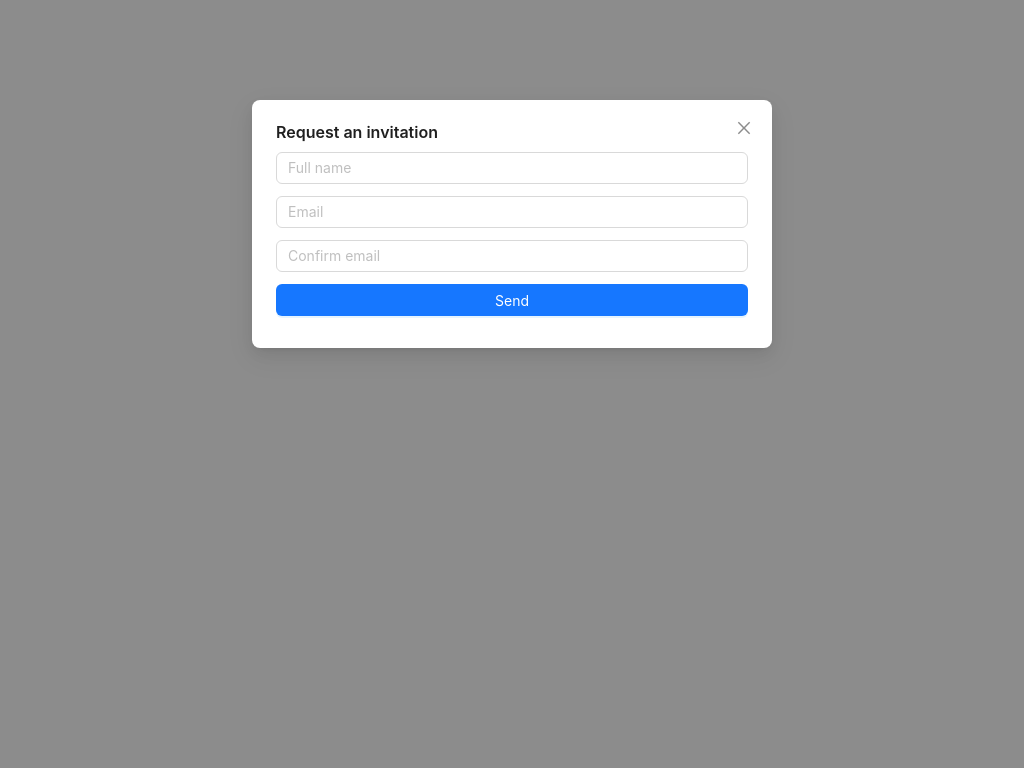
Test: ModalForm › validation › validate name and email
The width and height of the screenshot is (1024, 768).
Click the button "Send": (512, 300) [276, 284, 748, 316]
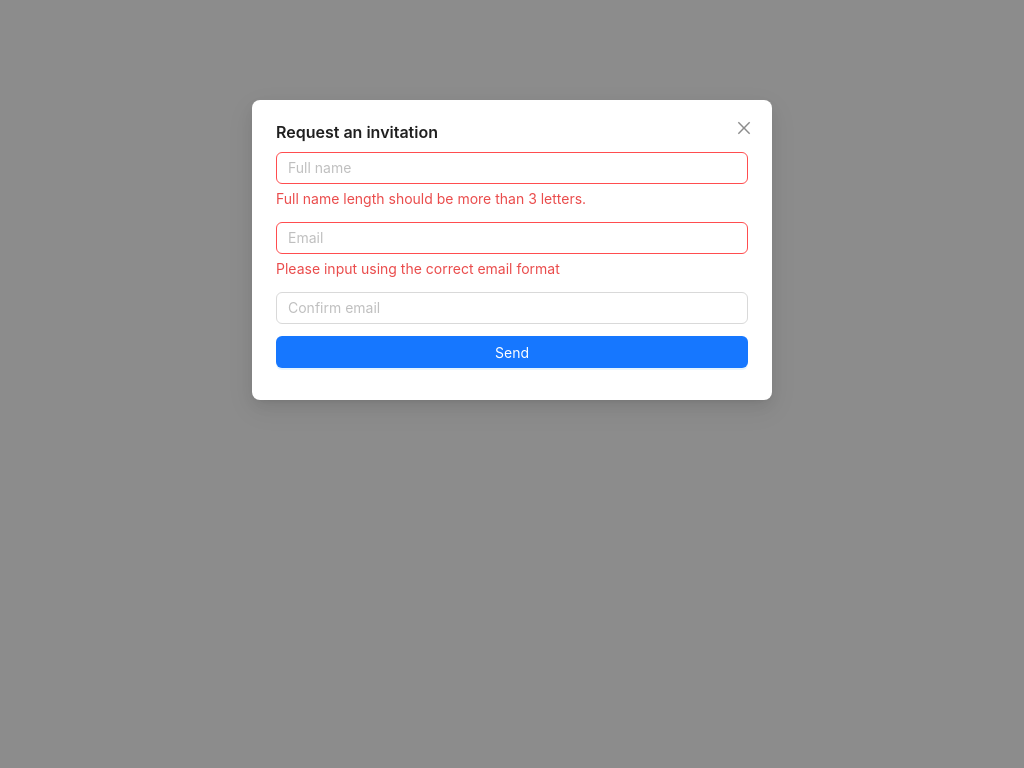
Now the text "Full name length should be more than 3 letters." is shown, box [276, 190, 586, 207]
Now the text "Please input using the correct email format" is shown, box [276, 260, 560, 277]
